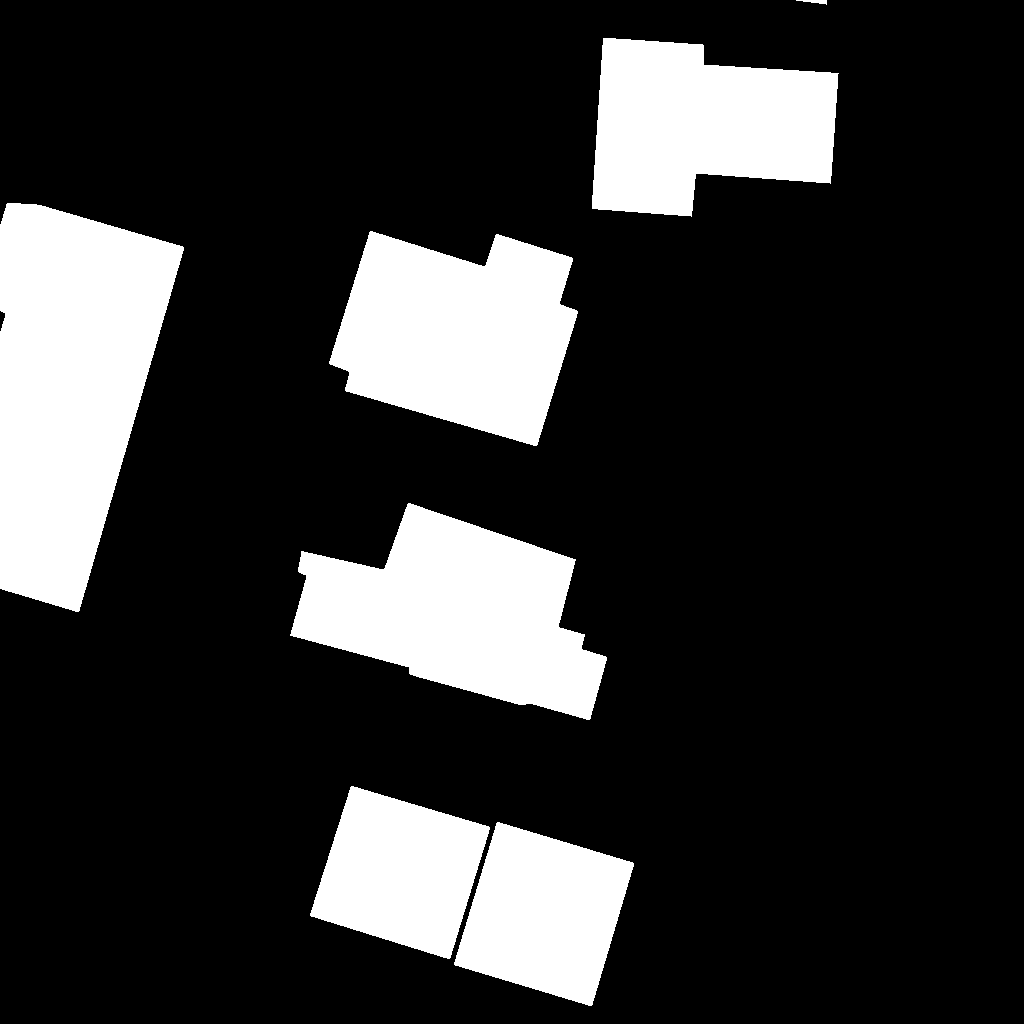building: (0, 203, 185, 613), (290, 503, 608, 721), (329, 231, 579, 447), (592, 38, 839, 217), (454, 822, 635, 1007), (310, 786, 491, 960), (792, 0, 828, 5)
